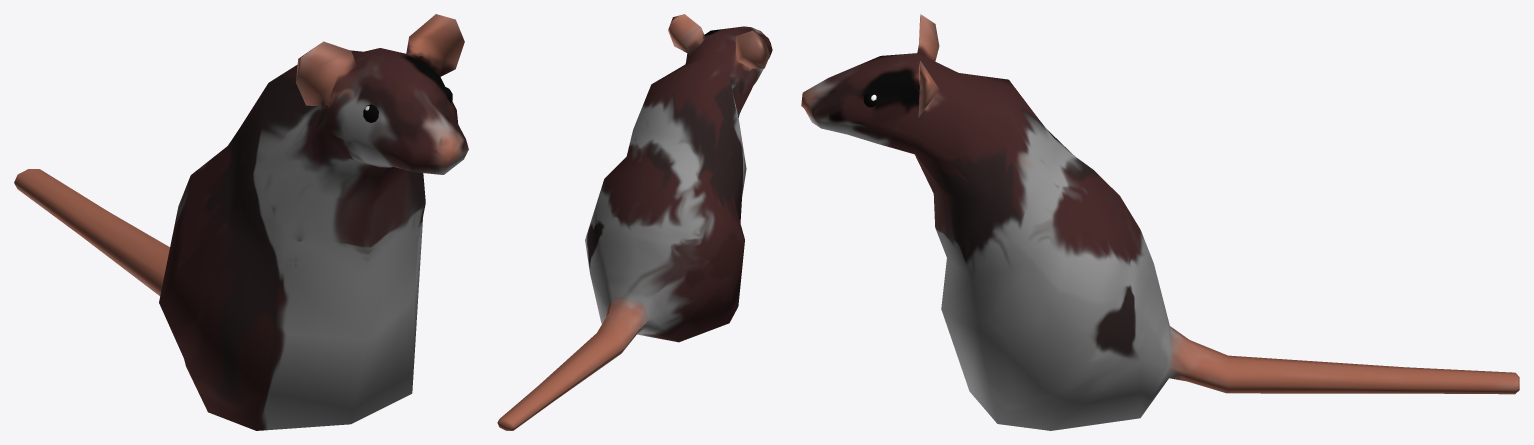
File: SM_RatStanding.fbx
The picture shows the model from 3 angles, left to right: view 1: azimuth 30°, elevation 25°; view 2: azimuth 150°, elevation 25°; view 3: azimuth 270°, elevation 25°; orthographic projection. The views are drawn at different scales.
Visible parts, largest first — view 1: rat2; view 2: rat2; view 3: rat2.
Part boxes in pixels (left/top/right/bottom): rat2: left=14, top=14, right=468, bottom=430; rat2: left=497, top=14, right=772, bottom=430; rat2: left=801, top=14, right=1519, bottom=430.
Bounding box in the file's own units: 0.2993 × 0.4898 × 0.8988.
